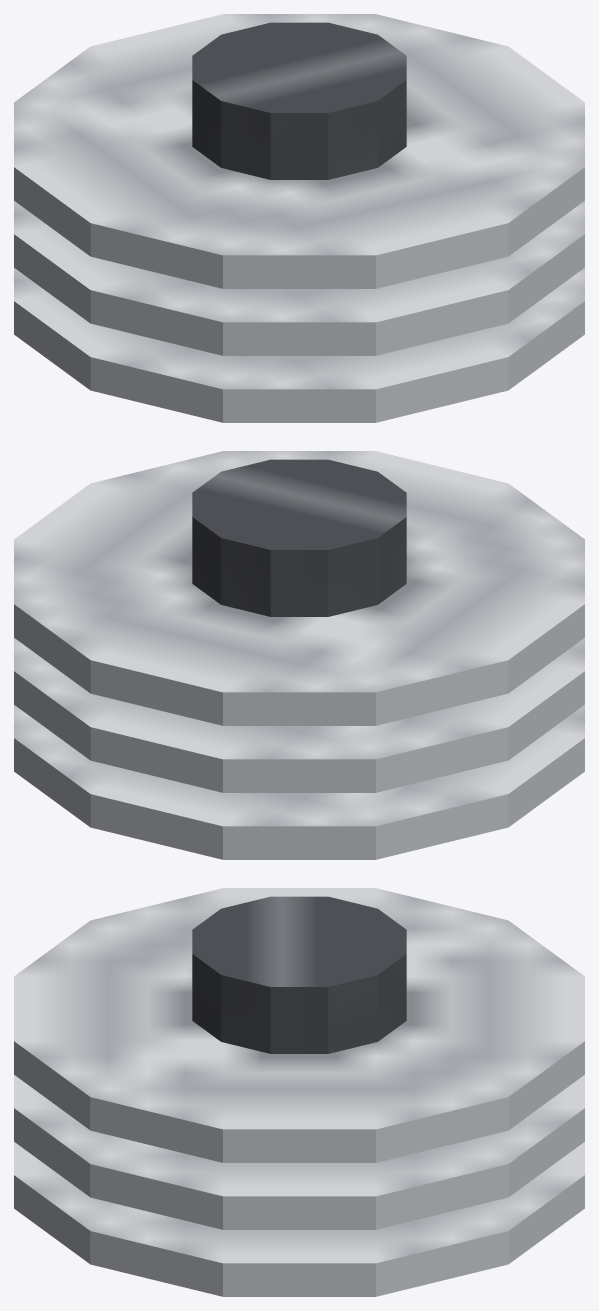
File: era4_disk_bank_pack_double_sided.obj
3 views of the same model, one above another, from view 1: azimuth 30°, elevation 25°; view 2: azimuth 150°, elevation 25°; view 3: azimuth 270°, elevation 25° (orthographic).
Parts seen in each view (by area): view 1: era4_disk_bank; view 2: era4_disk_bank; view 3: era4_disk_bank.
Boxes of the visible parts, x1,y1,x2,y2 form: era4_disk_bank: [14, 14, 584, 422]; era4_disk_bank: [14, 451, 584, 859]; era4_disk_bank: [14, 888, 584, 1296].
Bounding box in the file's own units: 0.9659 × 0.5375 × 0.9659.
